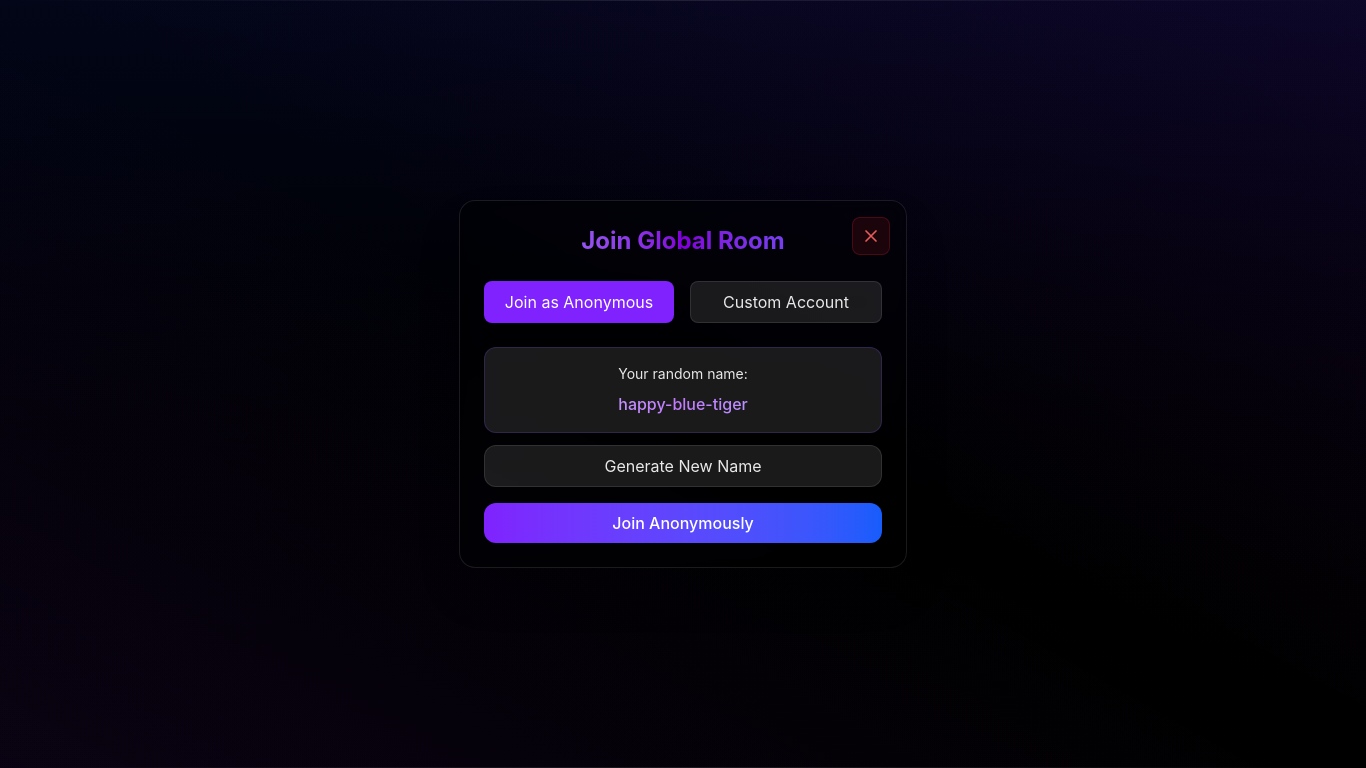
JoinRoom › anonymous join flow › surfaces an error when login fails with a non-400 error
Check: the text "happy-blue-tiger" is shown, box [501,392,865,416]
Click the button "Join Anonymously" at (683,523), box [484,503,882,543]
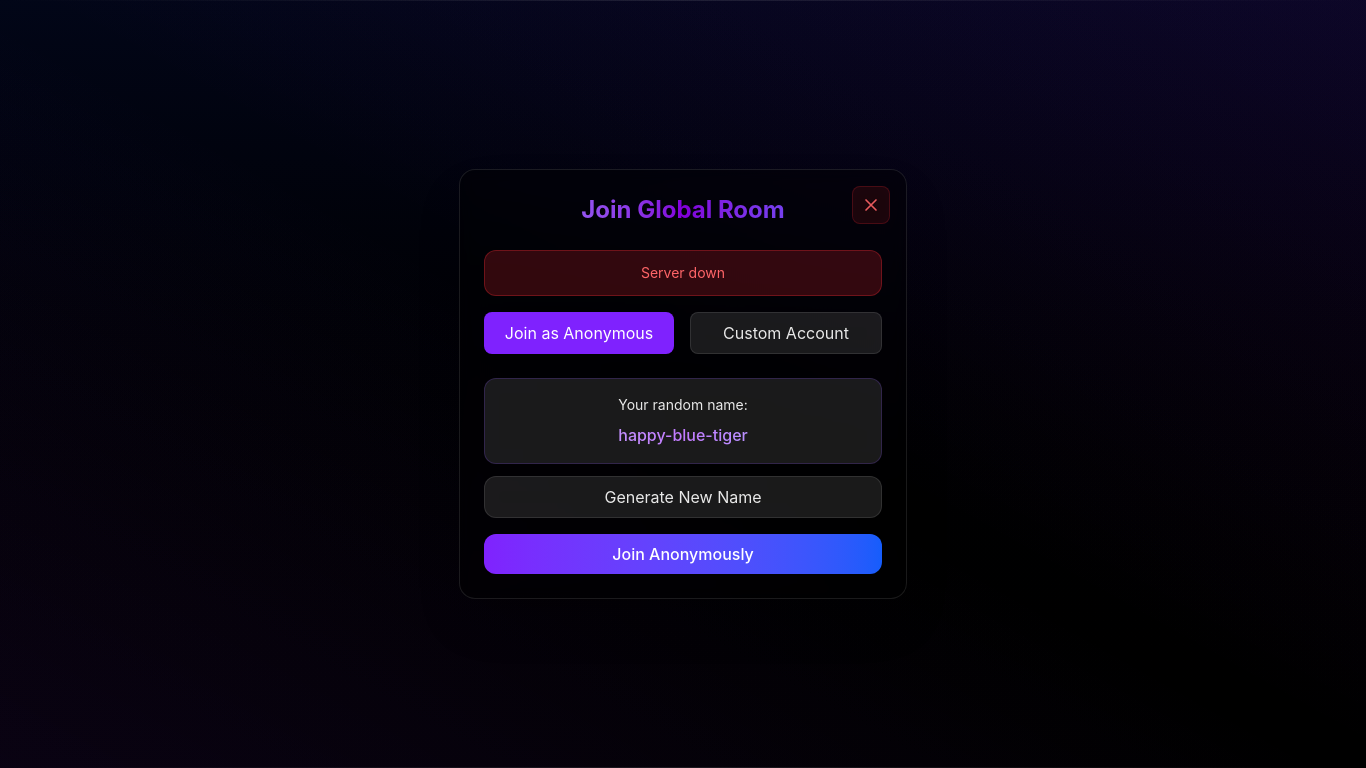
Check: the text "Server down" is shown, box [484,250,882,296]
